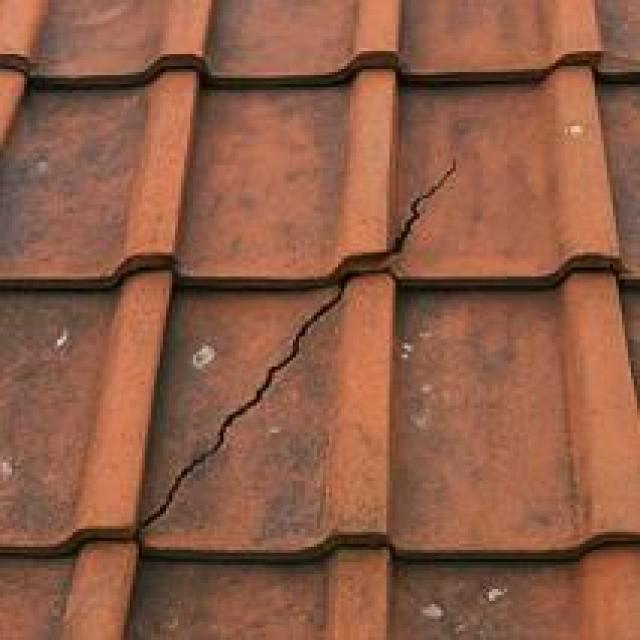fissure: (121, 156, 462, 541)
